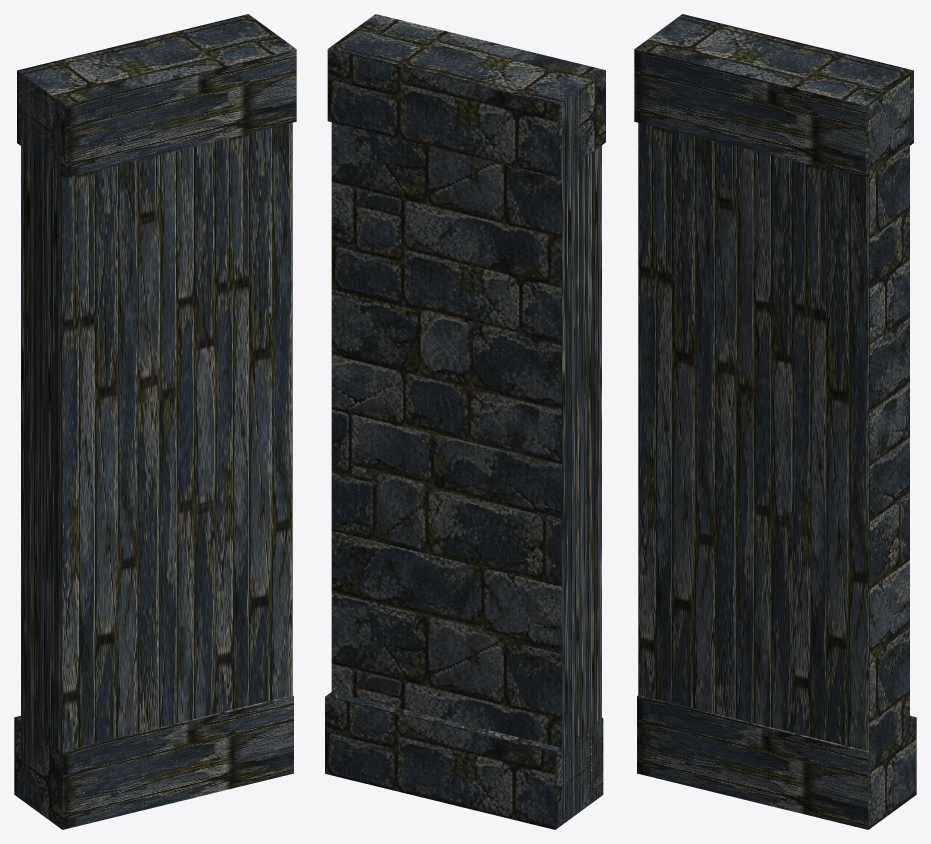
File: M_Parede_1m.obj
3 views of the same model, side by side, from view 1: azimuth 30°, elevation 25°; view 2: azimuth 150°, elevation 25°; view 3: azimuth 330°, elevation 25° (orthographic).
Visible parts, largest first — view 1: M_Parede_1m; view 2: M_Parede_1m; view 3: M_Parede_1m.
Boxes of the visible parts, x1,y1,x2,y2 form: M_Parede_1m: (14, 14, 296, 829); M_Parede_1m: (325, 14, 605, 829); M_Parede_1m: (634, 14, 916, 829).
Bounding box in the file's own units: 1 × 3 × 0.38.
1 material, 1 textured.
